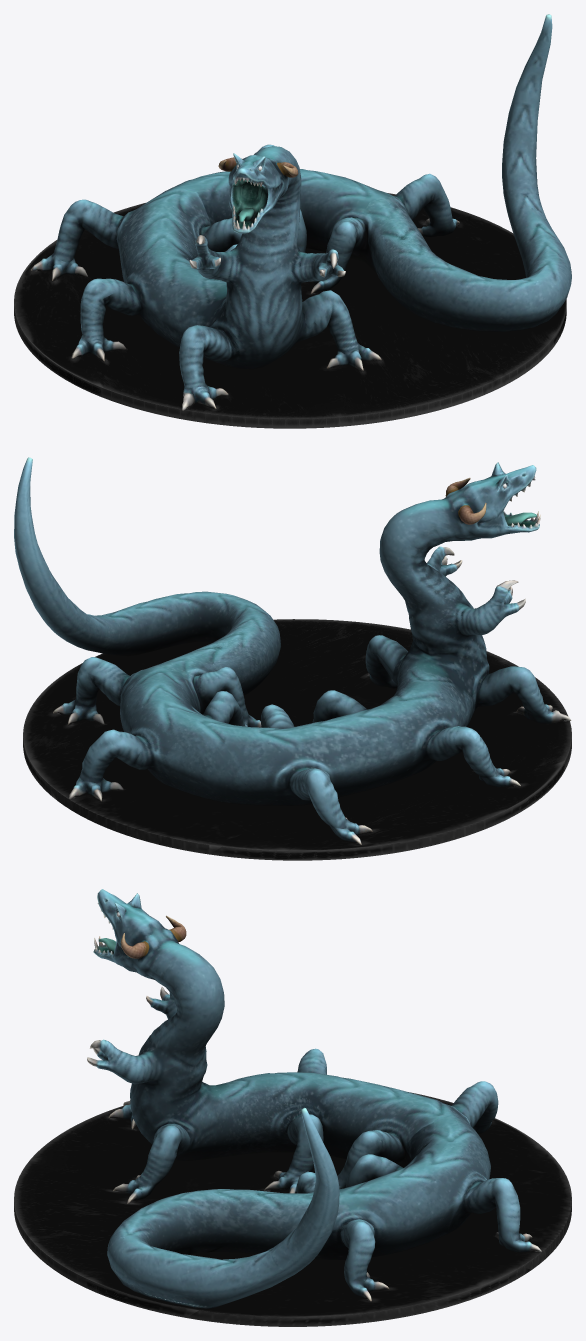
File: MZ4250 - Behir.glb
The picture shows the model from 3 angles, top to bottom: view 1: azimuth 30°, elevation 25°; view 2: azimuth 150°, elevation 25°; view 3: azimuth 270°, elevation 25°; orthographic projection.
Visible parts, largest first — view 1: body_low.001, base_low.001; view 2: body_low.001, base_low.001; view 3: body_low.001, base_low.001.
Boxes of the visible parts, x1,y1,x2,y2 form: body_low.001: [31, 14, 571, 410]; base_low.001: [14, 193, 566, 428]; body_low.001: [14, 457, 571, 844]; base_low.001: [23, 619, 571, 860]; body_low.001: [87, 889, 541, 1308]; base_low.001: [14, 1092, 571, 1326].
Bounding box in the file's own units: 11.78 × 5.47 × 11.07.
1 material, 1 textured.
